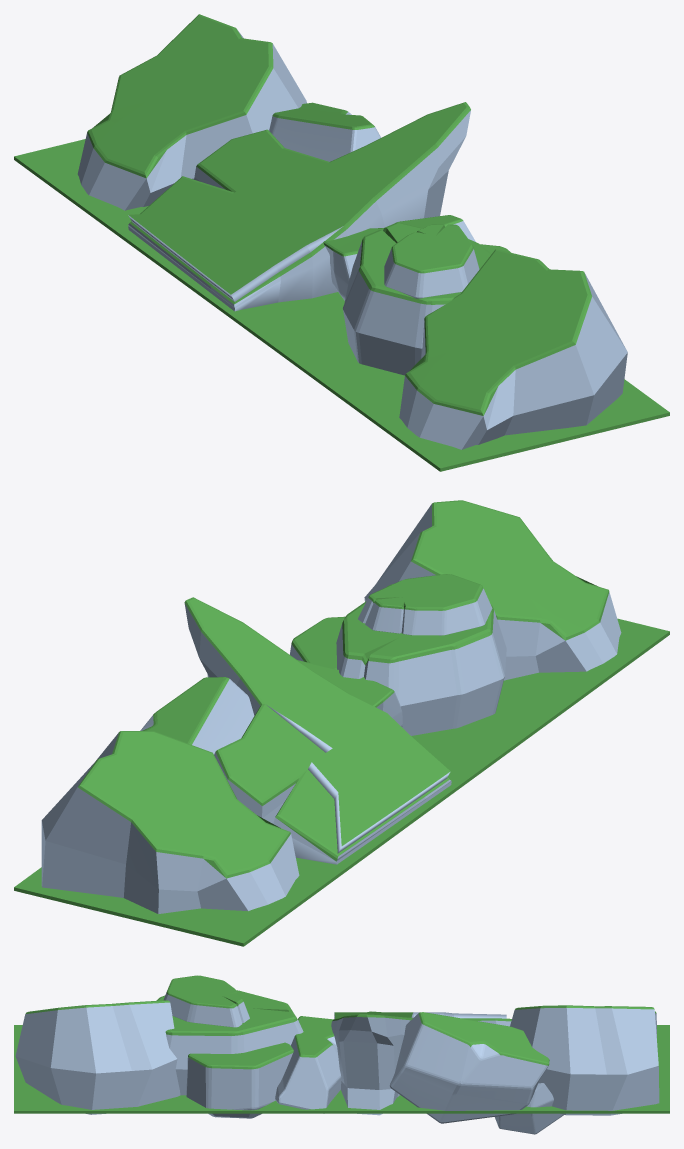
The model's file is Pebble's Road Section 02.fbx.
3 renders of one model, top to bottom at view 1: azimuth 30°, elevation 25°; view 2: azimuth 150°, elevation 25°; view 3: azimuth 270°, elevation 25°, orthographic. The views are drawn at different scales.
Visible parts, largest first — view 1: Rock_02_, Rock_07__3, Rock_07__2, Ground_, Rock_10_, Rock_13__3, Rock_13__4; view 2: Rock_07__2, Rock_02_, Rock_10_, Rock_07__3, Ground_, Rock_13__3, Rock_13__4; view 3: Rock_07__3, Rock_10_, Rock_07__2, Rock_13__3, Ground_, Rock_02_, Rock_13__4, Rock_13__2.
Part boxes in pixels (bbox=[...]): Rock_02_: bbox=[128, 102, 470, 311]; Rock_07__3: bbox=[399, 249, 627, 449]; Rock_07__2: bbox=[77, 14, 306, 210]; Ground_: bbox=[14, 139, 669, 471]; Rock_10_: bbox=[343, 223, 510, 375]; Rock_13__3: bbox=[269, 102, 380, 161]; Rock_13__4: bbox=[323, 215, 475, 300]; Rock_07__2: bbox=[41, 731, 299, 913]; Rock_02_: bbox=[184, 597, 451, 864]; Rock_10_: bbox=[290, 574, 506, 735]; Rock_07__3: bbox=[364, 500, 621, 680]; Ground_: bbox=[14, 618, 669, 946]; Rock_13__3: bbox=[140, 677, 254, 754]; Rock_13__4: bbox=[297, 660, 402, 726]; Rock_07__3: bbox=[15, 1000, 180, 1114]; Rock_10_: bbox=[156, 975, 303, 1118]; Rock_07__2: bbox=[510, 1005, 659, 1115]; Rock_13__3: bbox=[389, 1012, 549, 1123]; Ground_: bbox=[14, 1025, 669, 1113]; Rock_02_: bbox=[331, 1011, 511, 1115]; Rock_13__4: bbox=[275, 1016, 341, 1109]; Rock_13__2: bbox=[495, 1083, 563, 1134].
Bounding box in the file's own units: 7793 × 5107 × 22500.
